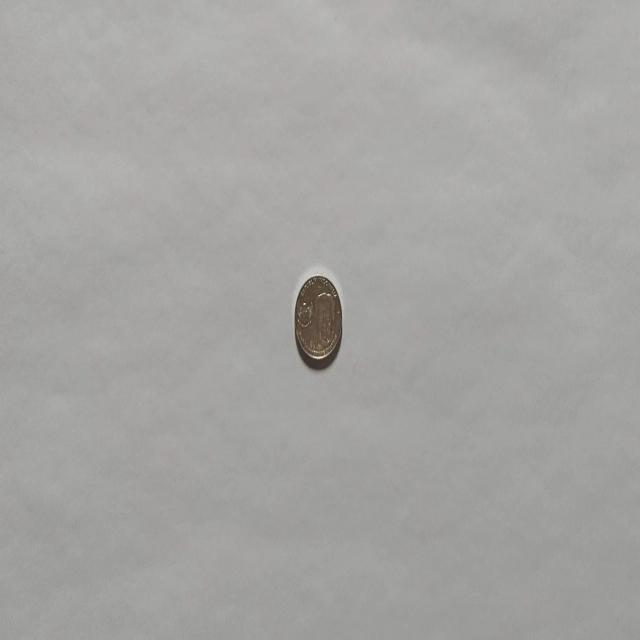seratus rupiah: (294, 272, 342, 364)
